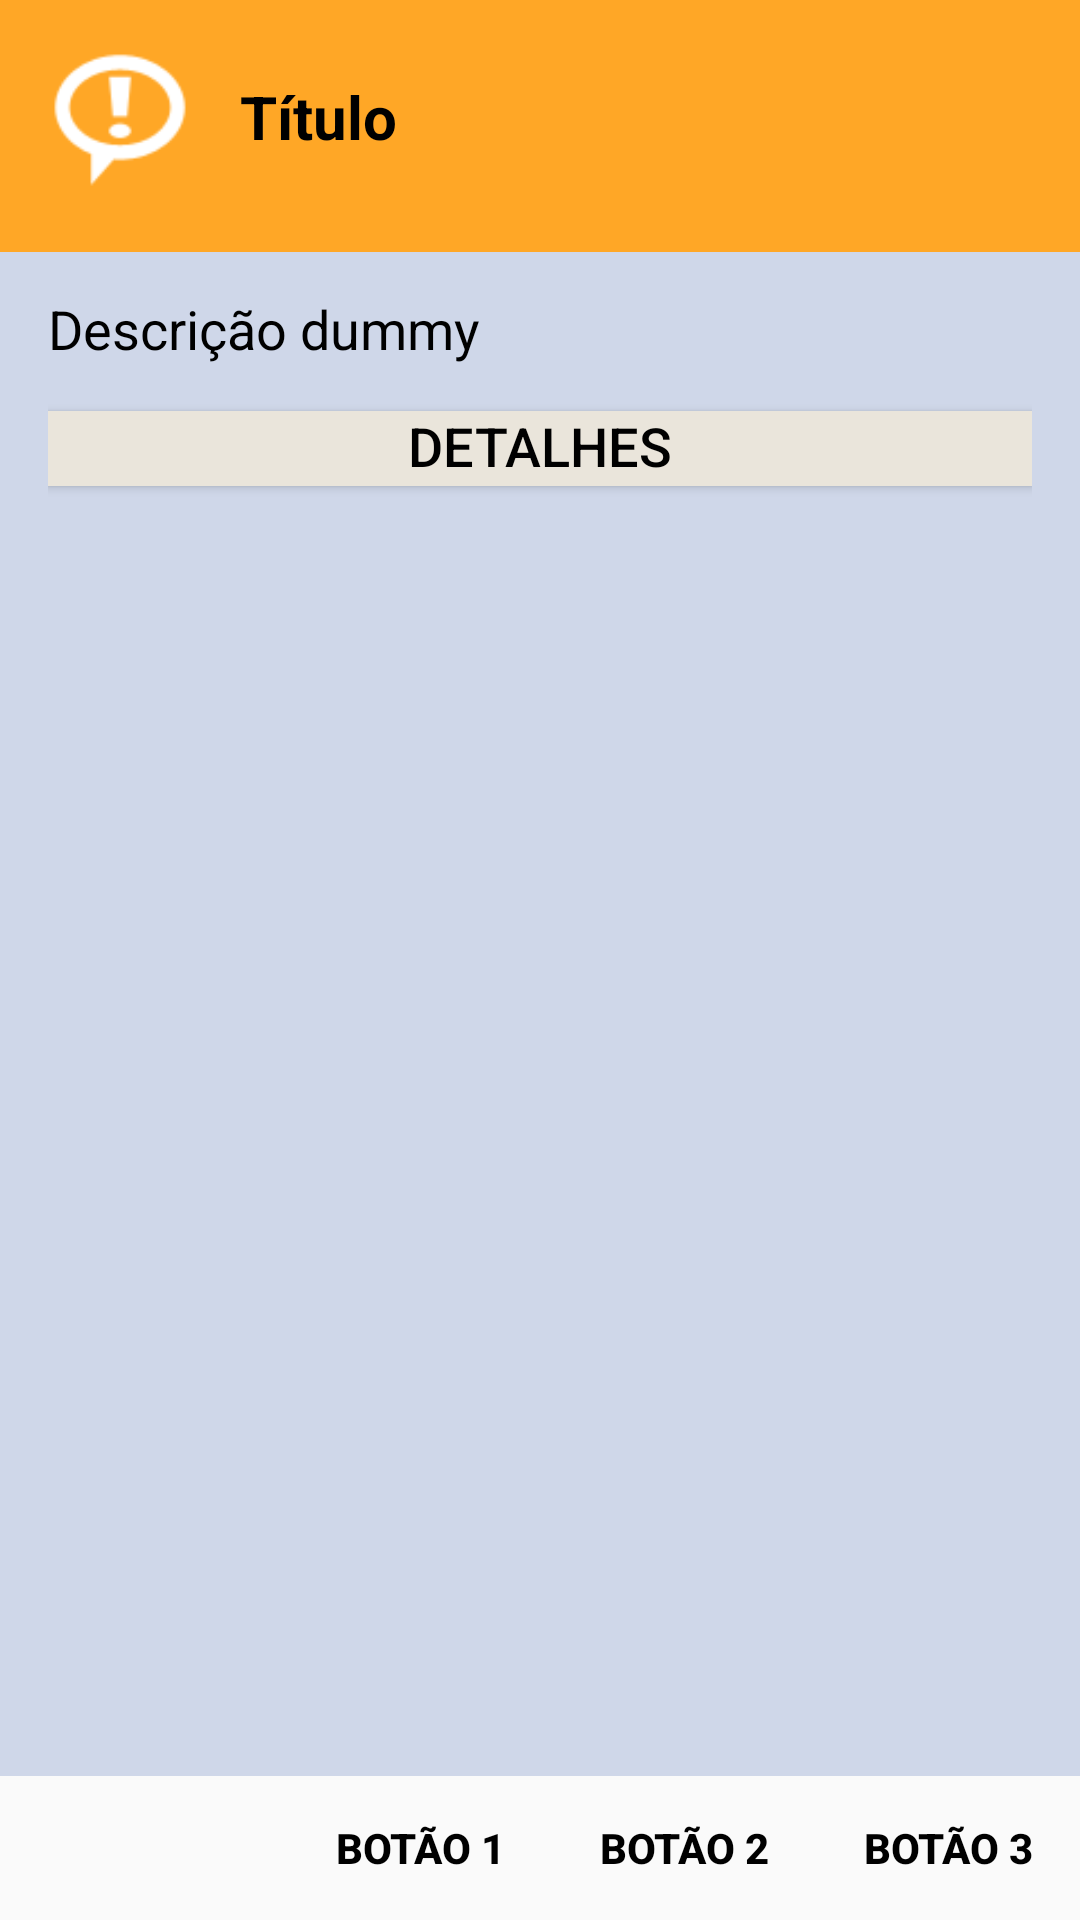

Named icons in this screenshot (1080 × 1920) and their centers, (x=x, y=y):
alerta: (x=120, y=119)
